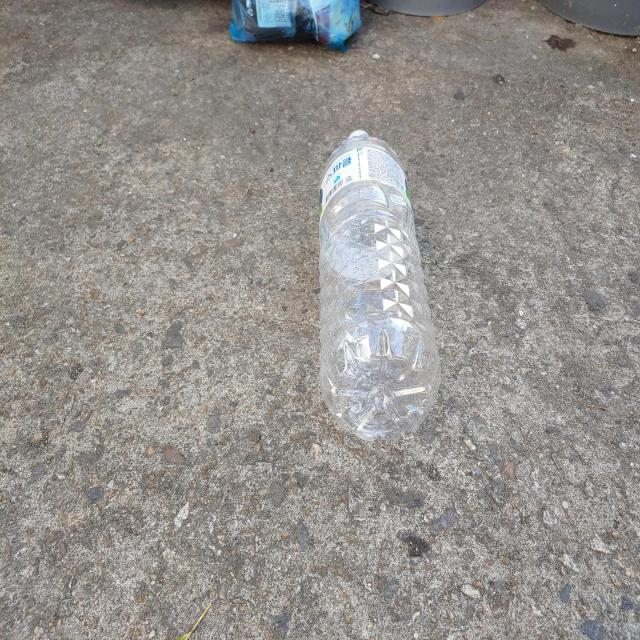plastic: (319, 129, 441, 441)
